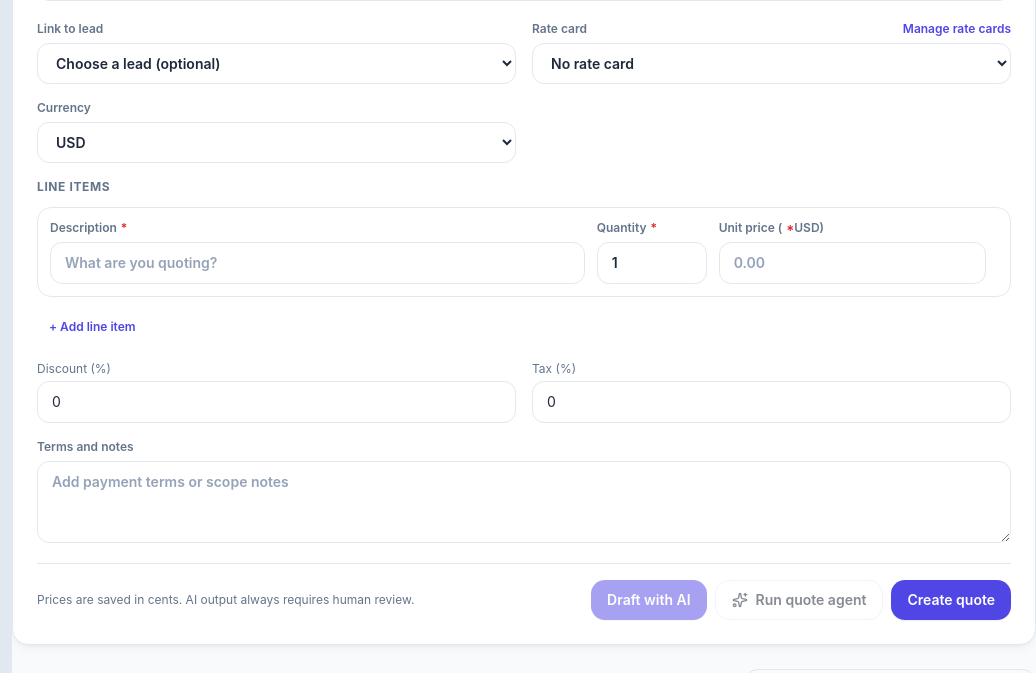
Test case: Quotes › supports adding another proposal line
(page scrolled)
Step 1. Click the button "+ Add line item" → coordinates (92, 327), box [37,309,148,345]
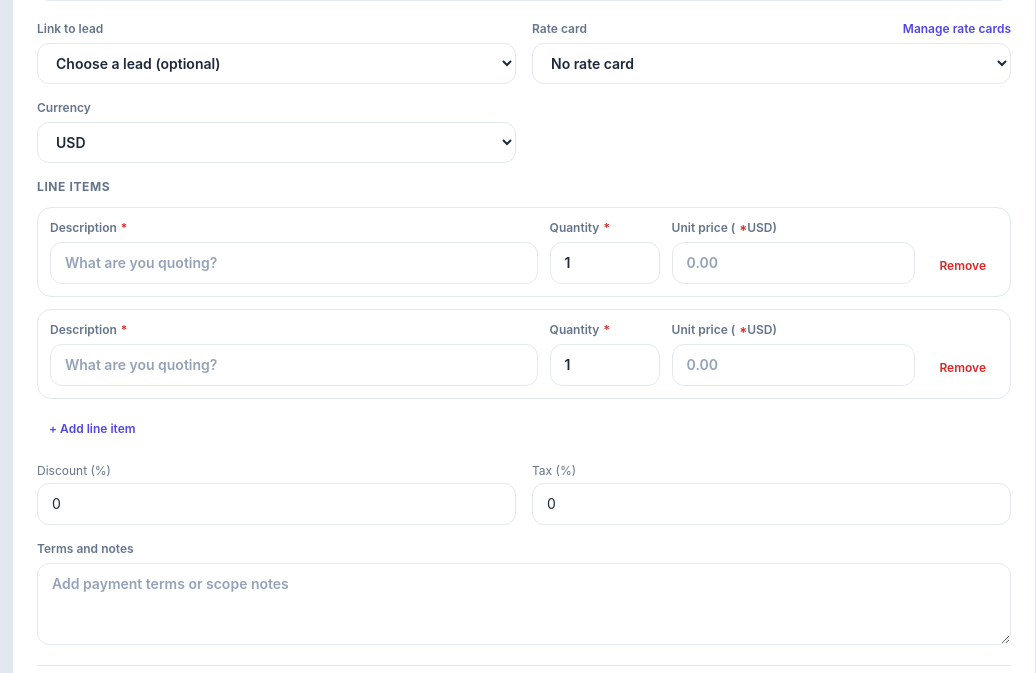
expect the number of fields with placeholder "What are you quoting?" is 2: met, box [50,242,538,284]; [50,344,538,386]
expect the number of number fields with placeholder "0.00" is 2: met, box [672,242,915,284]; [672,344,915,386]
expect the number field named "Quantity for item 2" is shown: met, box [550,344,660,386]
